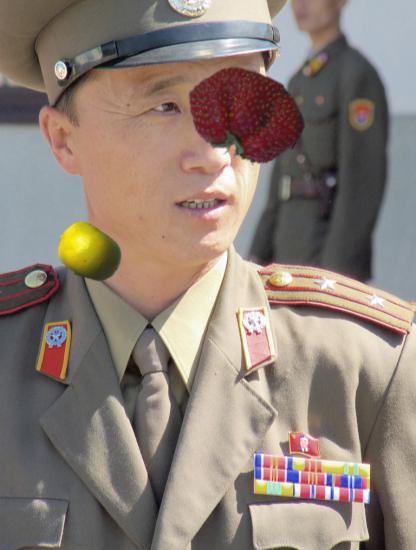Pomelo: (56, 220, 123, 287)
Strawberry: (184, 56, 304, 176)
